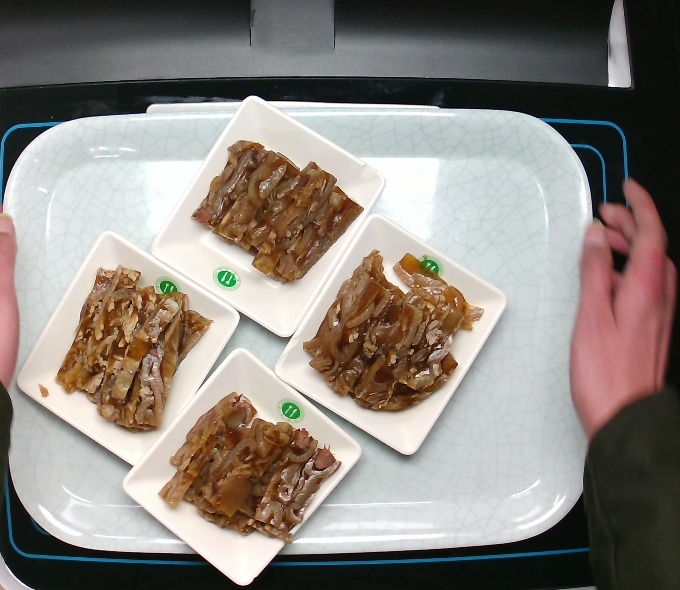wcq-DongZhuPi: (298, 245, 487, 416), (34, 262, 219, 435), (154, 388, 347, 547), (187, 135, 368, 288)
